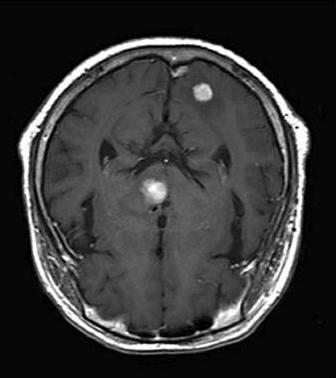Normal_Brain: (1, 1, 336, 378)
